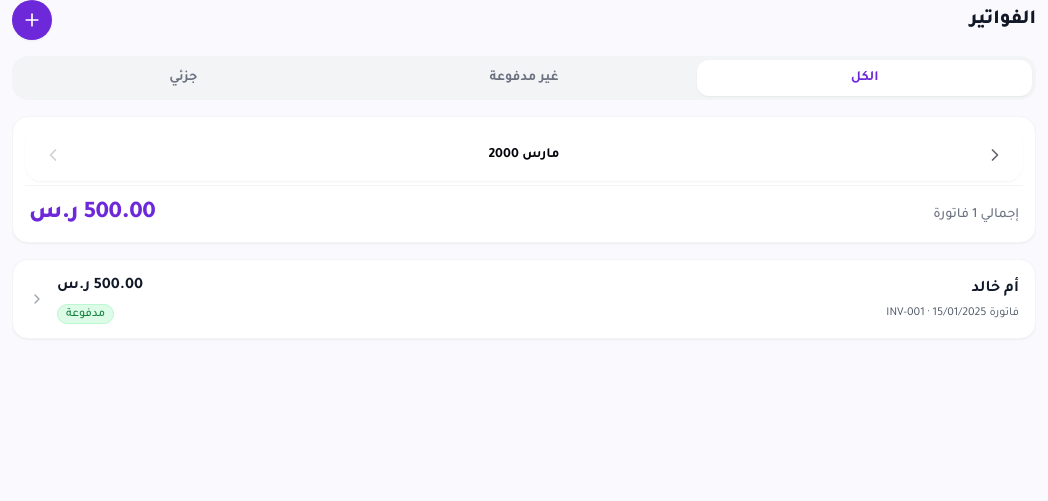
it: صفحة الفواتير (Invoices) › تبويبات الفلتر › يعرض رسالة 'لا فواتير' عند تصفية بدون نتائج
Expected: the text "أم خالد" is shown, x1=972 y1=281 x2=1019 y2=297
Click the button "غير مدفوعة" at point(524, 78), box x1=357 y1=60 x2=691 y2=96
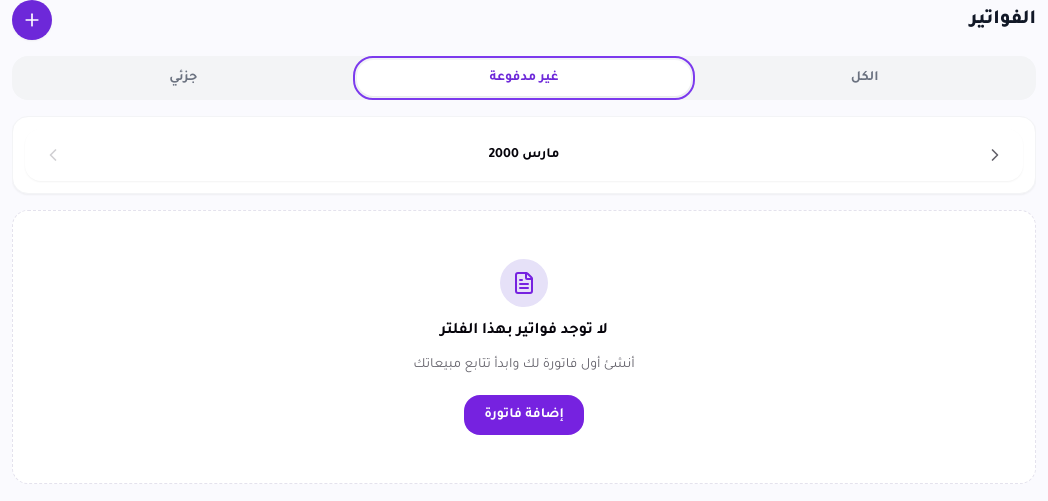
Expected: the text "لا توجد فواتير بهذا الفلتر" is shown, x1=440 y1=319 x2=608 y2=343
